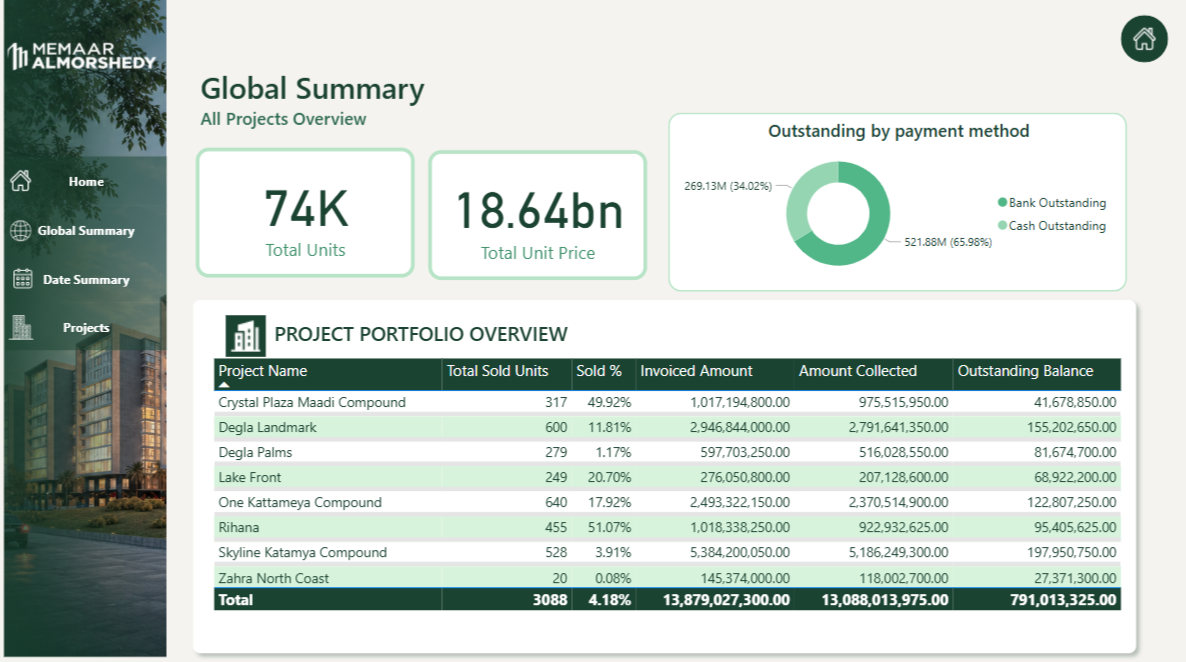

The dashboard page shown, as its layout file describes it:
{"tool":"powerbi","page":{"name":"Global Summary","canvas":[1280,720],"ordinal":1},"visuals":[{"type":"image","box":[0,0,184.6,719.6],"z":0},{"type":"image","box":[0,0,175.2,128],"z":1000},{"type":"actionButton","title":"Back to Home","box":[1208.8,22.9,51.2,51.2],"z":2000},{"type":"shape","box":[199.5,320.7,1035,398.9],"z":2000,"group":"g3"},{"type":"actionButton","title":"EXPLORE PROJECTS","box":[6.7,280.3,173.8,52.6],"z":3000},{"type":"tableEx","fields":{"Values":["Dim_Project.Project Name","Fact_Installment.Sold Units","Fact_Installment.Sold %","Fact_Installment.Invoiced Amount","Fact_Installment.Amount Collected","Fact_Installment.Outstanding Balance"]},"box":[225.1,388.1,990.5,304.6],"z":3000,"group":"g3"},{"type":"actionButton","title":"EXPLORE PROJECTS","box":[6.7,332.9,173.8,51.2],"z":4000},{"type":"textbox","box":[211.6,74.1,460.9,86.3],"z":5000},{"type":"group","id":"g1","title":"Group 9","box":[6.7,175.2,173.8,52.6],"z":6000},{"type":"textbox","box":[290.6,345.9,342.3,47.2],"z":6000,"group":"g3"},{"type":"group","id":"g2","title":"Group 10","box":[6.7,227.8,173.8,52.6],"z":7000},{"type":"image","box":[6.7,289.7,36.4,33.7],"z":8000},{"type":"image","box":[5.4,338.3,36.4,43.1],"z":9000},{"type":"group","id":"g3","title":"Group 1","box":[199.5,320.7,1035,398.9],"z":10000},{"type":"card","fields":{"Values":["Fact_Installment.Total Units"]},"box":[211.6,165.8,235.8,140.2],"z":11000},{"type":"actionButton","title":"EXPLORE PROJECTS","box":[6.7,175.2,173.8,52.6],"z":11000,"group":"g1"},{"type":"actionButton","title":"EXPLORE PROJECTS","box":[6.7,227.8,173.8,52.6],"z":11000,"group":"g2"},{"type":"card","fields":{"Values":["Fact_Installment.Total Unit Price"]},"box":[462.2,168.5,235.8,140.2],"z":12000},{"type":"image","box":[6.7,176.5,32.1,49.9],"z":12002,"group":"g1"},{"type":"donutChart","title":"Outstanding by payment method","fields":{"Y":["Fact_Installment.Bank Outstanding","Fact_Installment.Cash Outstanding"]},"box":[721,128,494.6,192.7],"z":13000},{"type":"image","box":[6.7,238.6,32.1,33.7],"z":14000,"group":"g2"},{"type":"image","box":[243.4,345.9,43.1,44.5],"z":19000,"group":"g3"}]}

Visuals, with their boxes on the page's 1280x720 design canvas (x1, y1, x2, y2). These are canvas units, not pixel positions in the 1186x662 screenshot, which may show the page scaled, cropped or inside an application window:
image: box=[0, 0, 185, 720]
image: box=[0, 0, 175, 128]
"Back to Home" actionButton: box=[1209, 23, 1260, 74]
shape: box=[200, 321, 1234, 720]
"EXPLORE PROJECTS" actionButton: box=[7, 280, 180, 333]
tableEx - Dim_Project.Project Name x Fact_Installment.Sold Units: box=[225, 388, 1216, 693]
"EXPLORE PROJECTS" actionButton: box=[7, 333, 180, 384]
textbox: box=[212, 74, 672, 160]
"Group 9" group: box=[7, 175, 180, 228]
textbox: box=[291, 346, 633, 393]
"Group 10" group: box=[7, 228, 180, 280]
image: box=[7, 290, 43, 323]
image: box=[5, 338, 42, 381]
"Group 1" group: box=[200, 321, 1234, 720]
card - Fact_Installment.Total Units: box=[212, 166, 447, 306]
"EXPLORE PROJECTS" actionButton: box=[7, 175, 180, 228]
"EXPLORE PROJECTS" actionButton: box=[7, 228, 180, 280]
card - Fact_Installment.Total Unit Price: box=[462, 168, 698, 309]
image: box=[7, 176, 39, 226]
"Outstanding by payment method" donutChart: box=[721, 128, 1216, 321]
image: box=[7, 239, 39, 272]
image: box=[243, 346, 286, 390]
